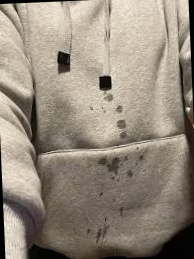oil: (83, 224, 115, 243), (99, 155, 123, 175), (103, 94, 120, 108), (118, 120, 129, 139), (88, 105, 100, 119), (115, 106, 126, 118), (119, 204, 126, 216), (127, 169, 135, 178), (132, 147, 139, 153), (139, 156, 145, 163), (101, 190, 107, 197)
